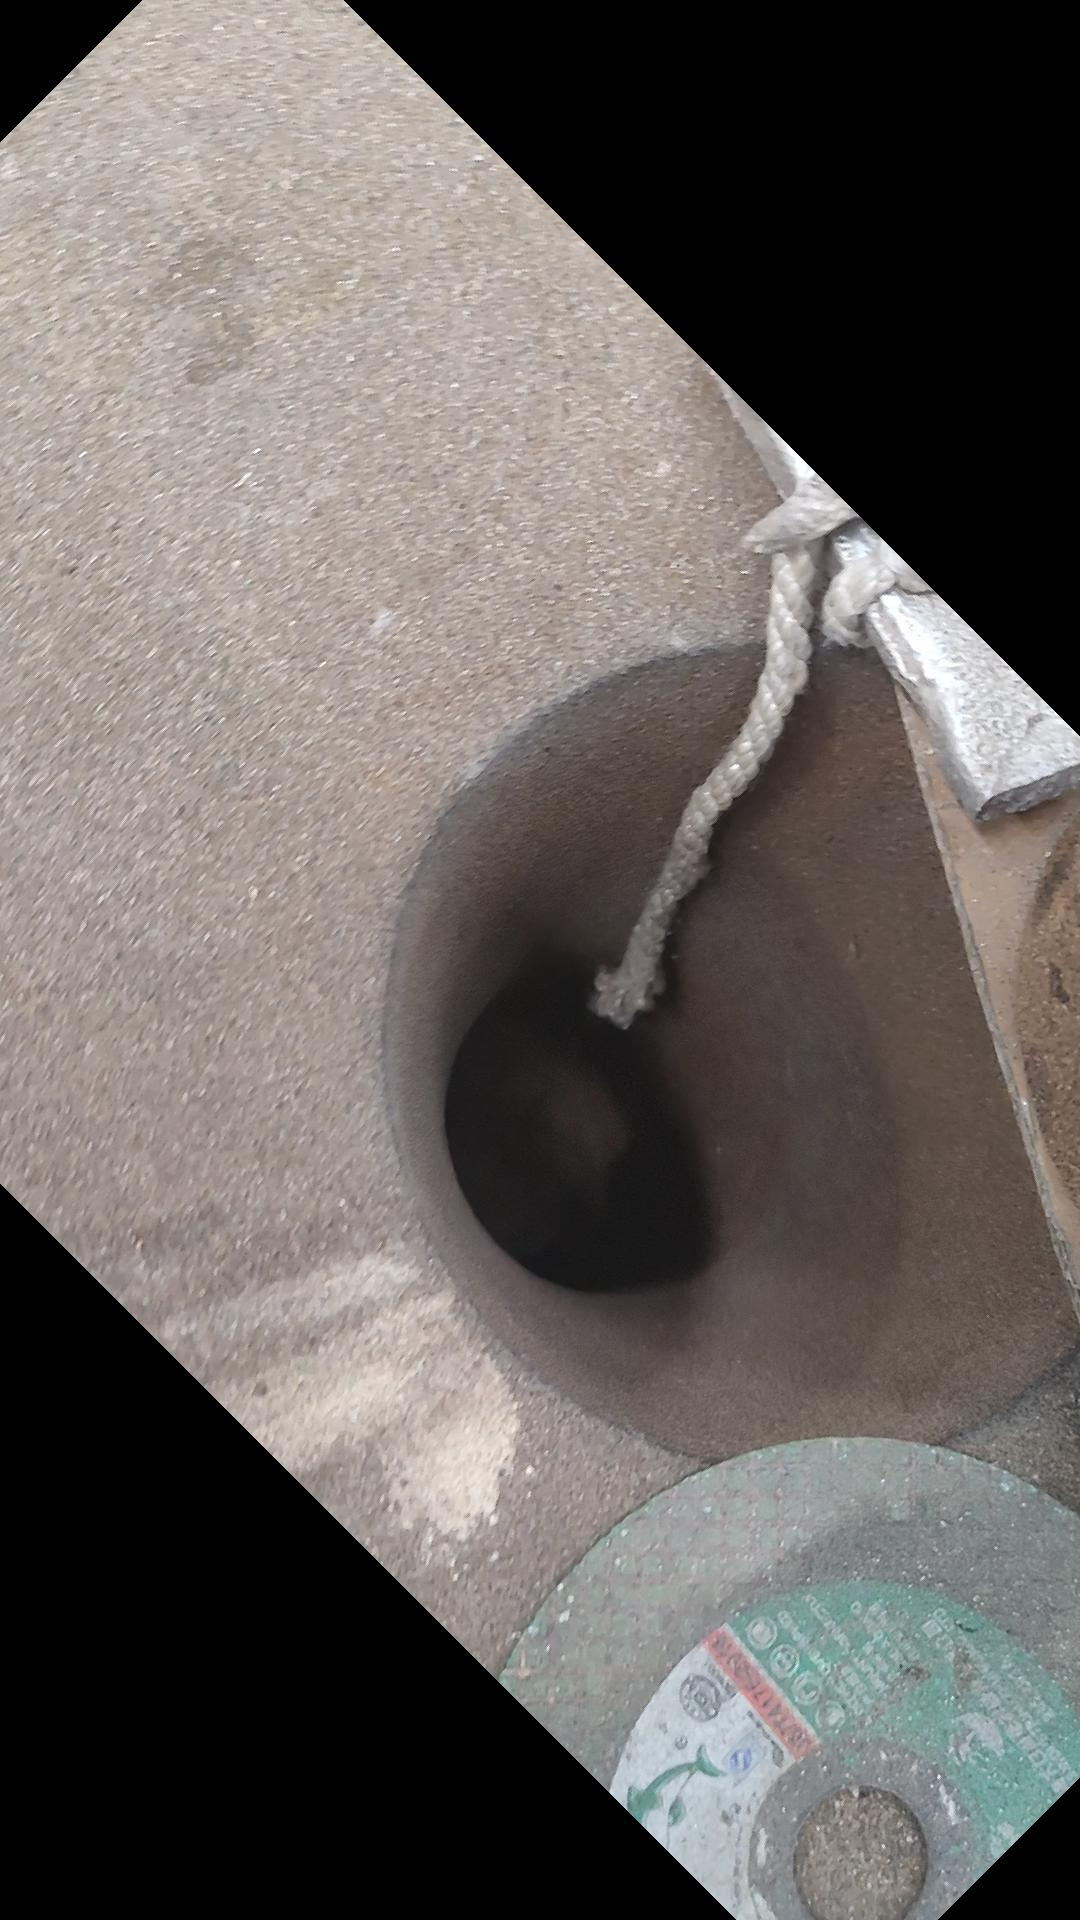pouring hole: (378, 638, 1080, 1462)
